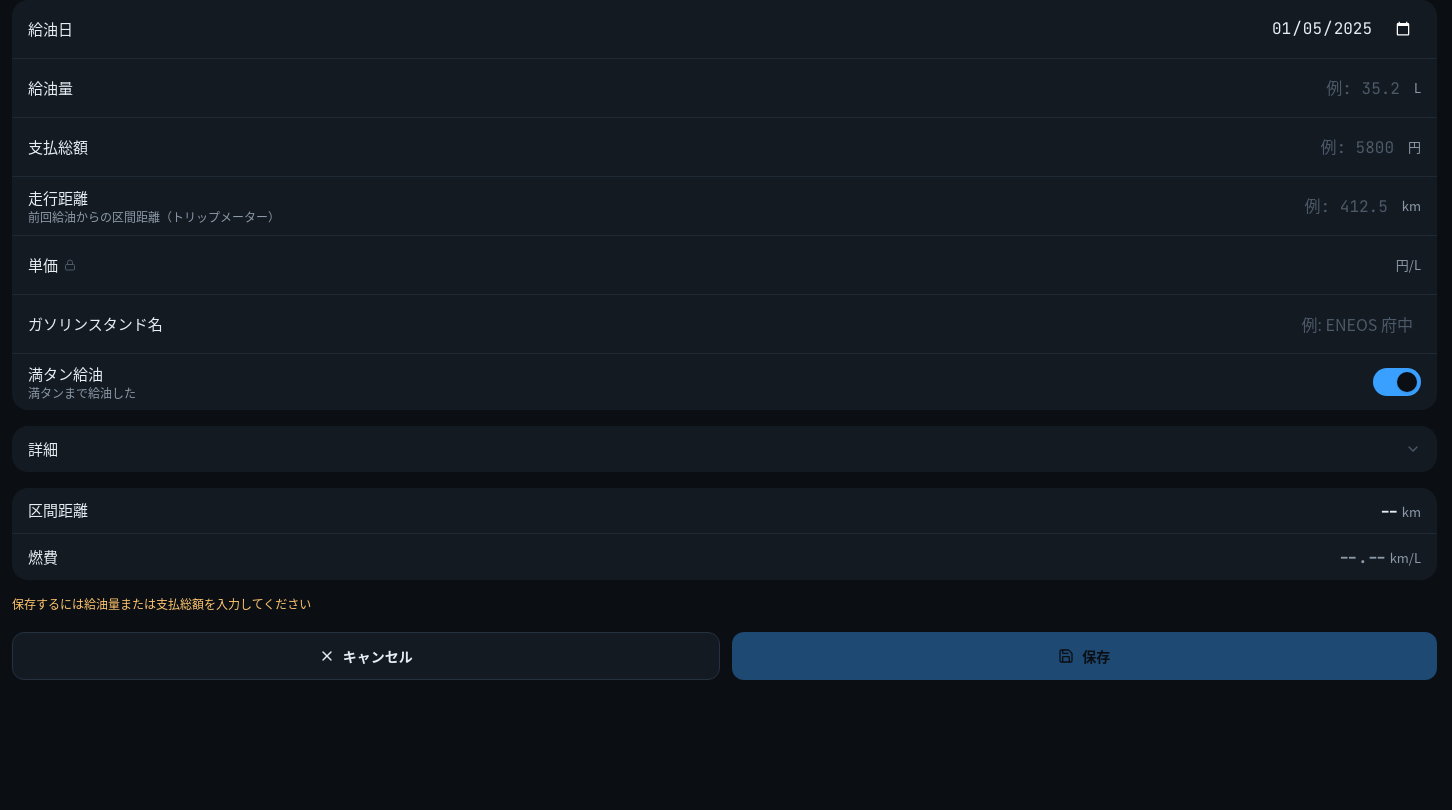
Scenario: EditFuelRecordForm › 満タンを外すと部分給油の説明（次の満タン給油でまとめて計算）が出る
The width and height of the screenshot is (1452, 810).
Expected: the text "満タンまで給油した" is shown, [28, 385, 136, 401]
Step 1. Click the switch named "満タン給油" → (1397, 382), box [1373, 368, 1421, 396]
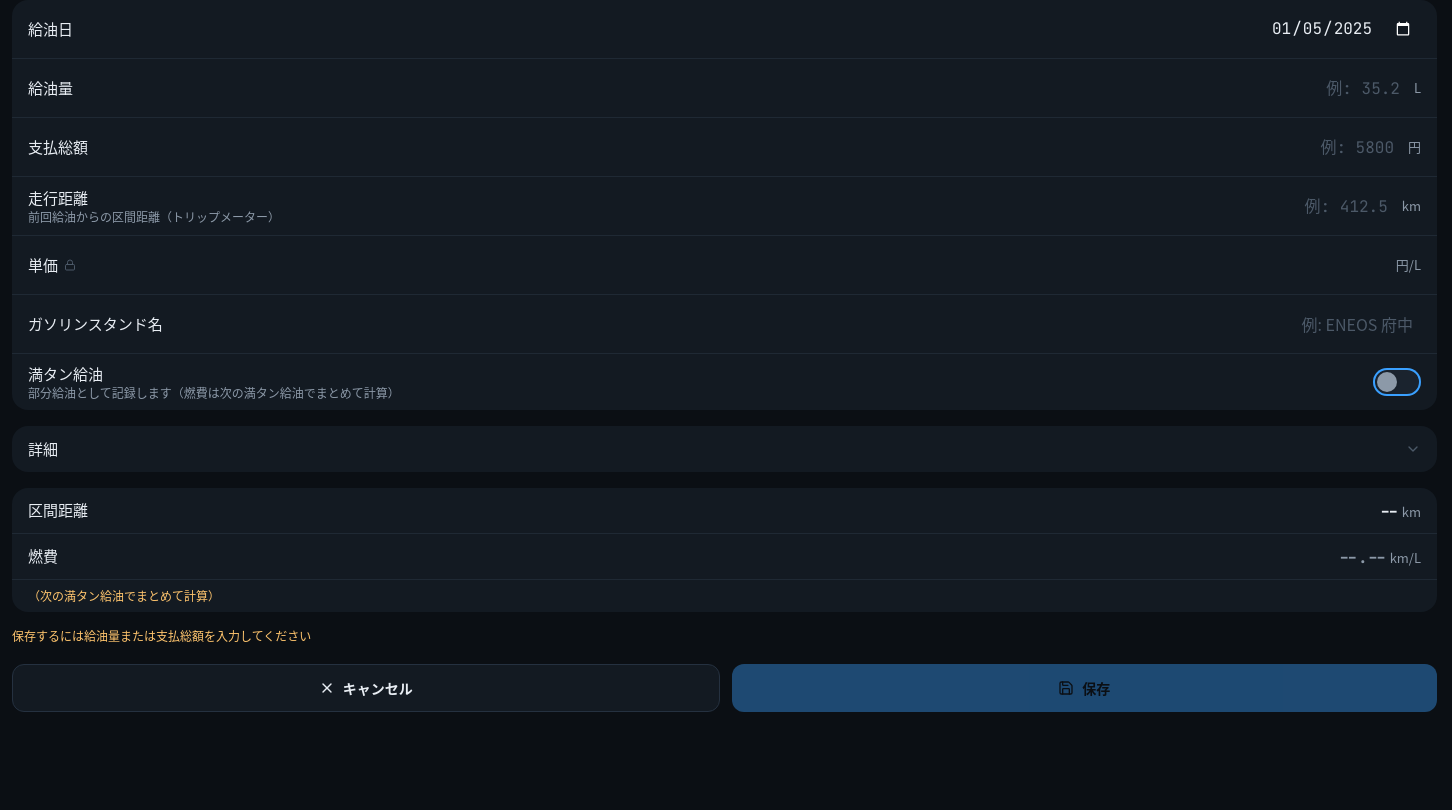
Expected: the text "部分給油として記録します（燃費は次の満タン給油でまとめて計算）" is shown 2 times, [28, 385, 400, 401]; [28, 587, 220, 604]
Now the text "（次の満タン給油でまとめて計算）" is shown, box [28, 587, 220, 604]
Now the text "満タンまで給油した" is gone
